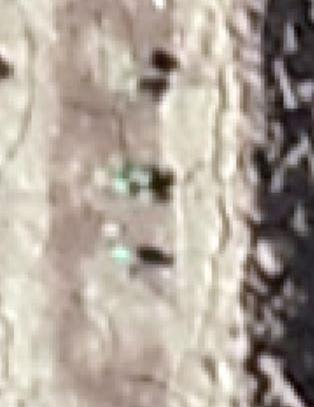cotton: (115, 164, 146, 192), (112, 246, 131, 263)
